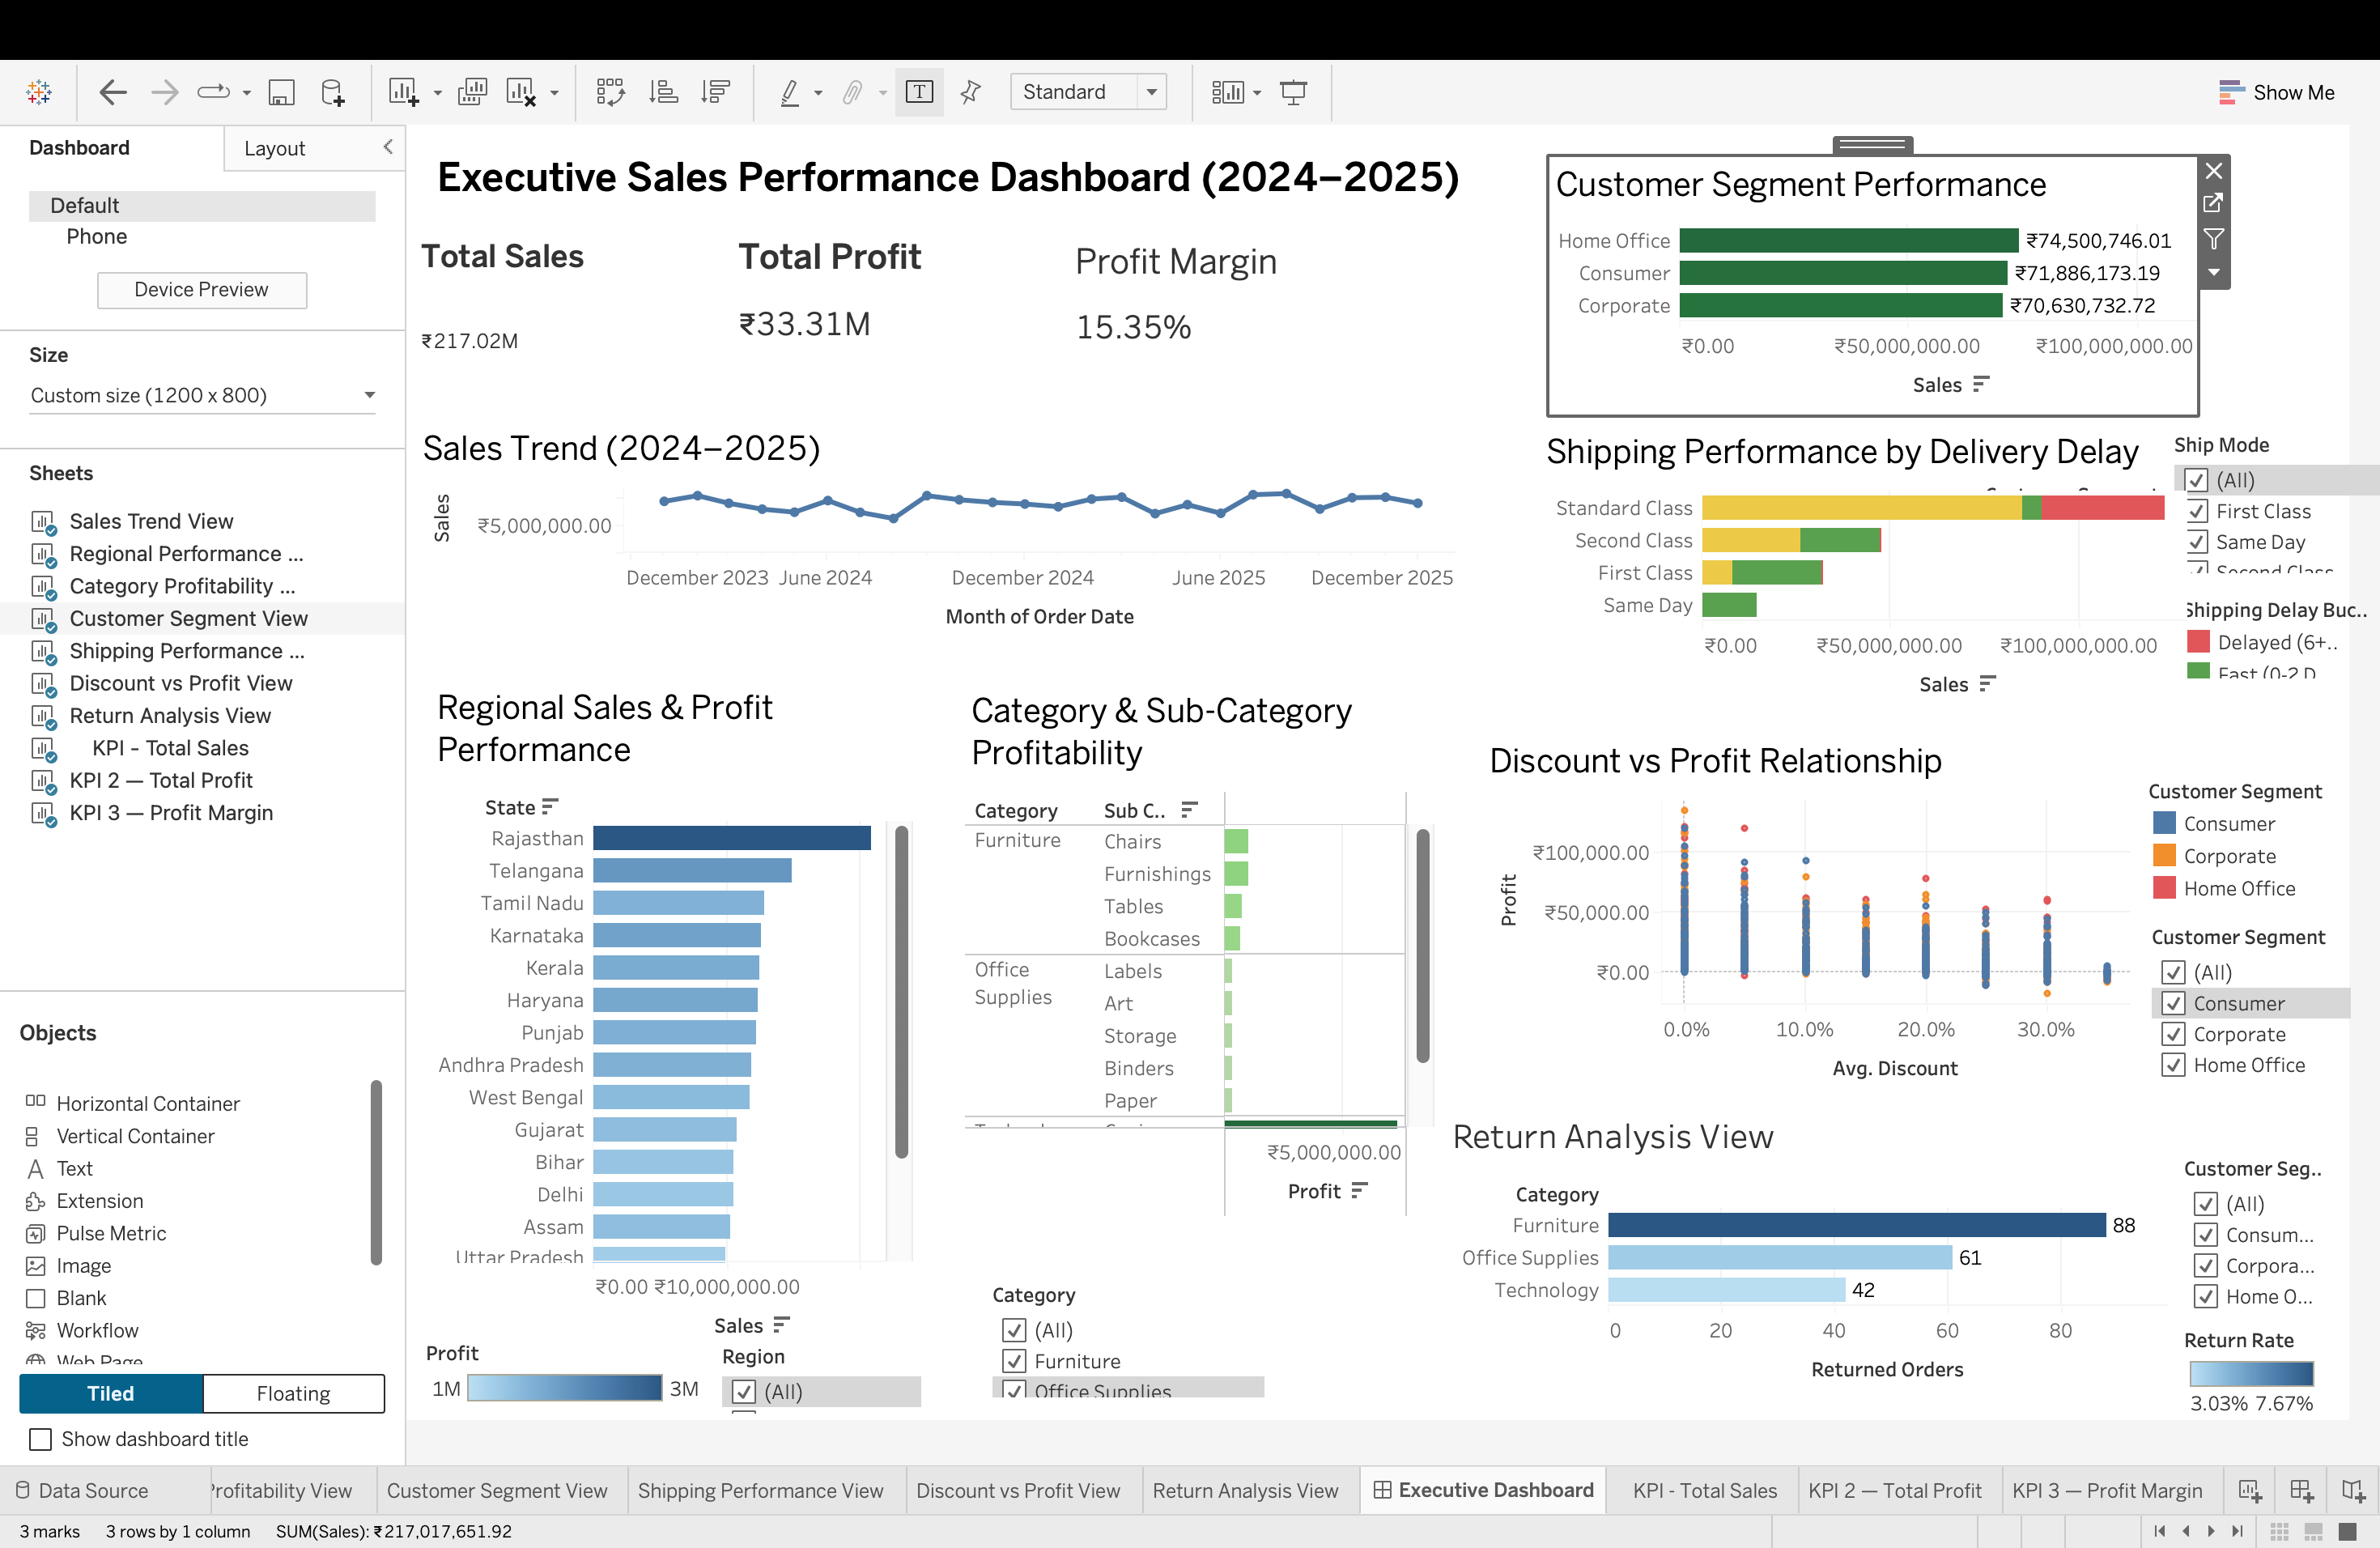

The page's visual inventory and layout, read from the dashboard file:
{"tool":"tableau","page":{"name":"Executive Dashboard","canvas":[1200,800],"ordinal":0},"visuals":[{"type":"worksheet","title":"Customer Segment View","mark":"Automatic","rows":["customer_segment"],"cols":["sales"],"box":[706,20,400,159]},{"type":"worksheet","title":"KPI 2 — Total Profit","mark":"Automatic","box":[201,48,326,95]},{"type":"worksheet","title":"    KPI - Total Sales","mark":"Text","box":[5,50,334,100]},{"type":"worksheet","title":"KPI 3 — Profit Margin","mark":"Automatic","box":[409,52,239,91]},{"type":"worksheet","title":"Sales Trend View","mark":"Line","rows":["sales"],"cols":["order_date"],"box":[6,183,643,136]},{"type":"worksheet","title":"Shipping Performance View","mark":"Automatic","rows":["ship_mode"],"cols":["sales"],"box":[700,185,400,184]},{"type":"filter","title":"Customer Segment View","param":"[federated.0e4njm11eov4q11cw8gf70ys18uh].[none:customer_segment:nk]","box":[975,220,124,108]},{"type":"worksheet","title":"Regional Performance View","mark":"Automatic","rows":["state"],"cols":["sales"],"box":[15,343,298,414]},{"type":"worksheet","title":"Category Profitability View","mark":"Automatic","rows":["category","sub_category"],"cols":["profit"],"box":[345,345,290,330]},{"type":"worksheet","title":"Discount vs Profit View","mark":"Automatic","rows":["profit"],"cols":["discount"],"box":[665,376,400,222]},{"type":"filter","title":"Discount vs Profit View","param":"[federated.0e4njm11eov4q11cw8gf70ys18uh].[none:customer_segment:nk]","box":[1078,493,123,108]},{"type":"worksheet","title":"Return Analysis View","mark":"Automatic","rows":["category"],"cols":["return_flag"],"box":[642,606,446,184]},{"type":"filter","title":"Return Analysis View","param":"[federated.0e4njm11eov4q11cw8gf70ys18uh].[none:customer_segment:nk]","box":[1098,636,87,125]},{"type":"filter","title":"Category Profitability View","param":"[federated.0e4njm11eov4q11cw8gf70ys18uh].[none:category:nk]","box":[362,714,168,72]},{"type":"legend","title":"Regional Performance View","param":"[federated.0e4njm11eov4q11cw8gf70ys18uh].[sum:profit:qk]","box":[12,750,174,46]},{"type":"filter","title":"Regional Performance View","param":"[federated.0e4njm11eov4q11cw8gf70ys18uh].[none:region:nk]","box":[195,752,123,44]}]}

Visuals, with their boxes on the page's 1200x800 design canvas (x1, y1, x2, y2). These are canvas units, not pixel positions in the 2380x1548 screenshot, which may show the page scaled, cropped or inside an application window:
"Customer Segment View" worksheet: pyautogui.locateOnScreen(706, 20, 1106, 179)
"KPI 2 — Total Profit" worksheet: pyautogui.locateOnScreen(201, 48, 527, 143)
"    KPI - Total Sales" worksheet (Text marks): pyautogui.locateOnScreen(5, 50, 339, 150)
"KPI 3 — Profit Margin" worksheet: pyautogui.locateOnScreen(409, 52, 648, 143)
"Sales Trend View" worksheet (Line marks): pyautogui.locateOnScreen(6, 183, 649, 319)
"Shipping Performance View" worksheet: pyautogui.locateOnScreen(700, 185, 1100, 369)
"Customer Segment View" filter: pyautogui.locateOnScreen(975, 220, 1099, 328)
"Regional Performance View" worksheet: pyautogui.locateOnScreen(15, 343, 313, 757)
"Category Profitability View" worksheet: pyautogui.locateOnScreen(345, 345, 635, 675)
"Discount vs Profit View" worksheet: pyautogui.locateOnScreen(665, 376, 1065, 598)
"Discount vs Profit View" filter: pyautogui.locateOnScreen(1078, 493, 1201, 601)
"Return Analysis View" worksheet: pyautogui.locateOnScreen(642, 606, 1088, 790)
"Return Analysis View" filter: pyautogui.locateOnScreen(1098, 636, 1185, 761)
"Category Profitability View" filter: pyautogui.locateOnScreen(362, 714, 530, 786)
"Regional Performance View" legend: pyautogui.locateOnScreen(12, 750, 186, 796)
"Regional Performance View" filter: pyautogui.locateOnScreen(195, 752, 318, 796)
